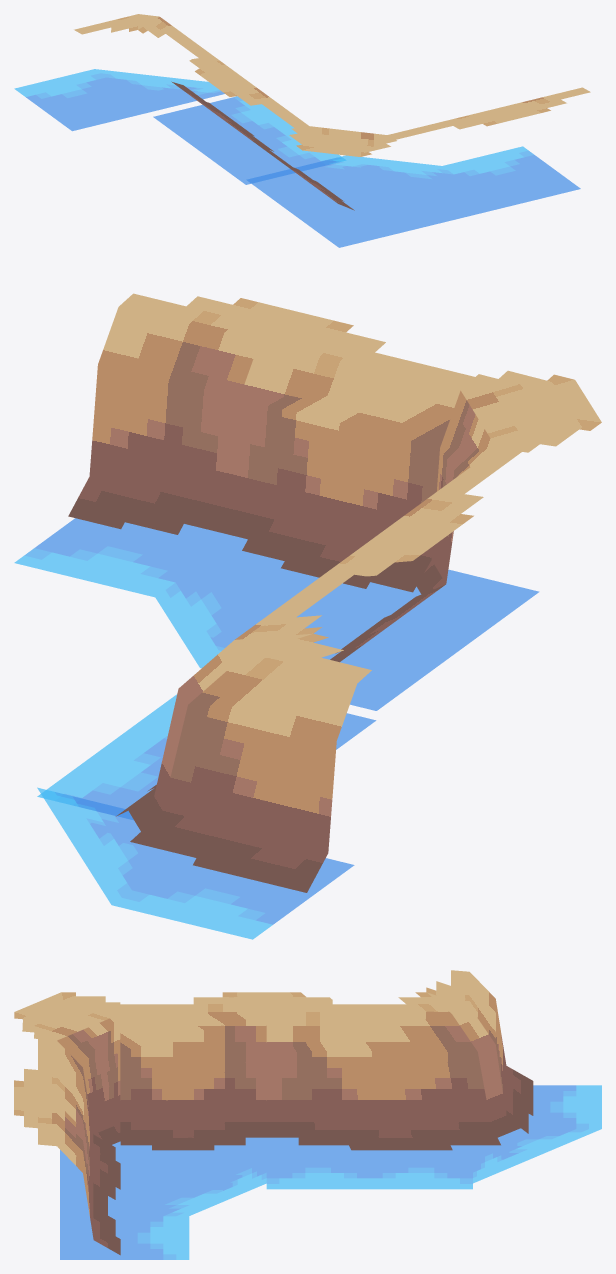
Rendered from berge-mare-native-04.glb.
The picture shows the model from 3 angles, top to bottom: view 1: azimuth 30°, elevation 25°; view 2: azimuth 150°, elevation 25°; view 3: azimuth 270°, elevation 25°; orthographic projection. The views are drawn at different scales.
Bounding box in the file's own units: 2 × 0.6582 × 2.85.
Materials: 2 (2 with a texture image).
